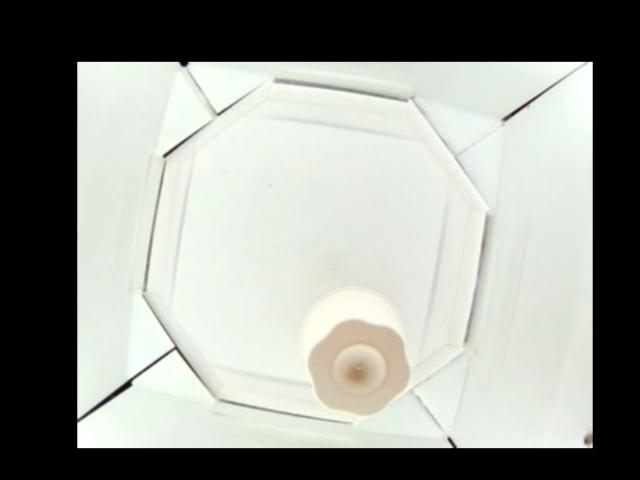Cup: (299, 286, 409, 419)
